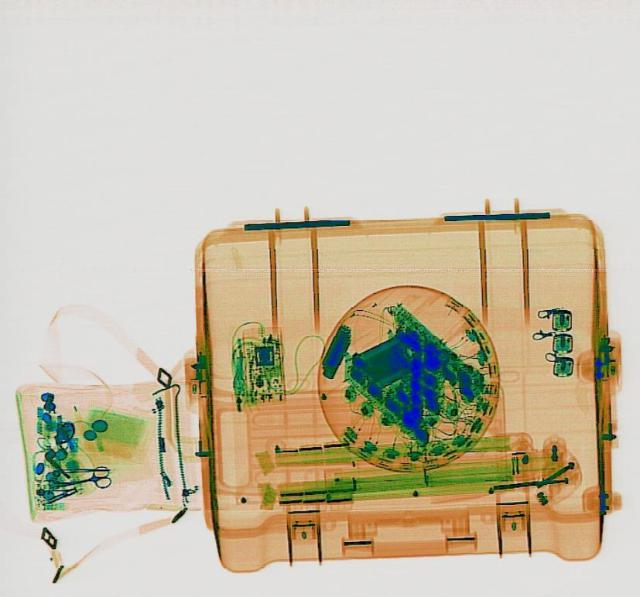Scissors: (46, 463, 110, 495)
